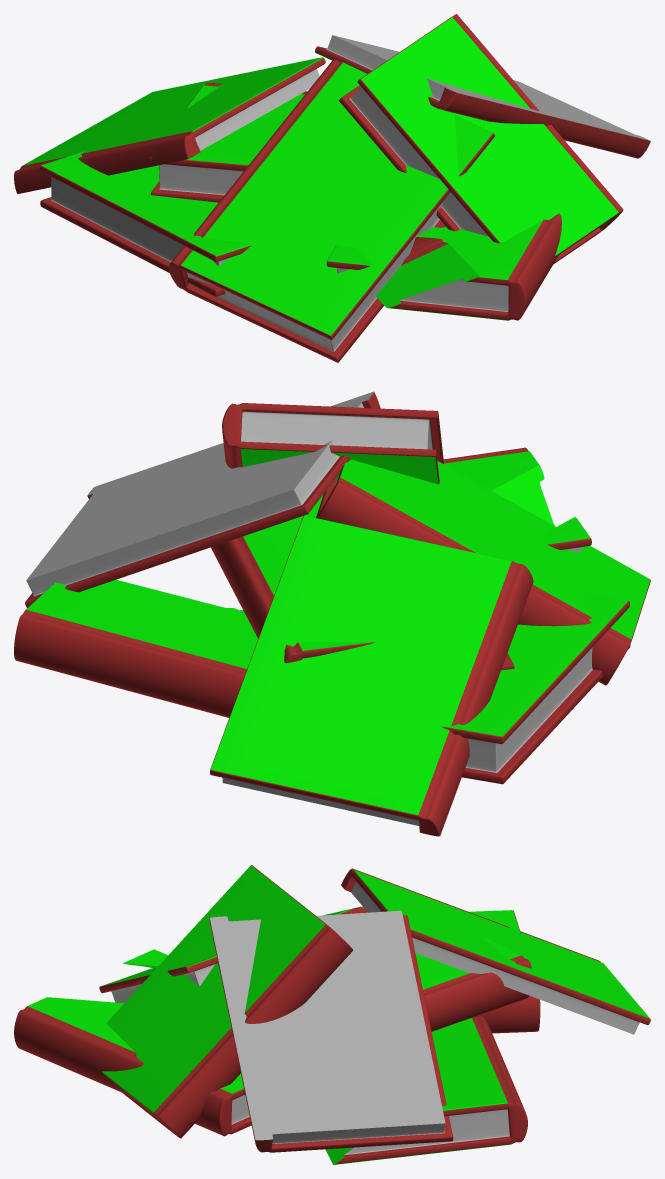
Rendered from firepit.fbx.
3 views of the same model, one above another, from view 1: azimuth 30°, elevation 25°; view 2: azimuth 150°, elevation 25°; view 3: azimuth 270°, elevation 25° (orthographic). The views are drawn at different scales.
Visible parts, largest first — view 1: polySurface7; view 2: polySurface7; view 3: polySurface7.
Boxes of the visible parts, x1,y1,x2,y2 form: polySurface7: [14, 14, 650, 362]; polySurface7: [14, 391, 650, 836]; polySurface7: [14, 865, 650, 1164].
Size of the model in its own units: 36.64 by 15.54 by 42.4.
